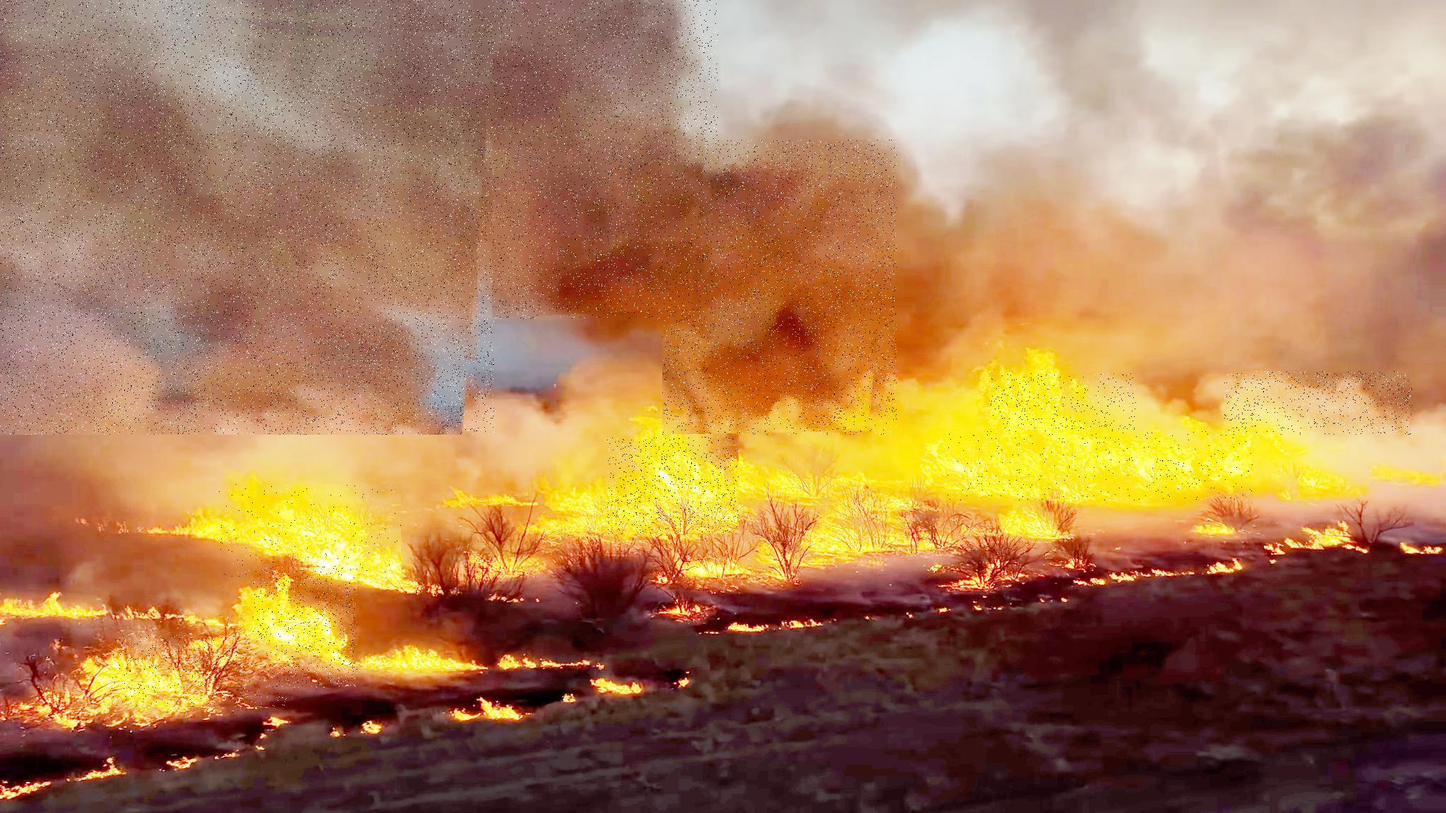fire: (946, 430, 1252, 500), (217, 484, 401, 581), (991, 373, 1136, 486), (112, 635, 291, 707), (607, 437, 738, 534), (253, 566, 357, 687)
smoke: (0, 6, 494, 435), (0, 0, 477, 360), (492, 0, 718, 319), (662, 140, 897, 435), (1224, 371, 1412, 435)
